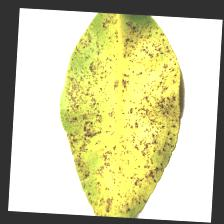canker: (78, 61, 161, 169)
